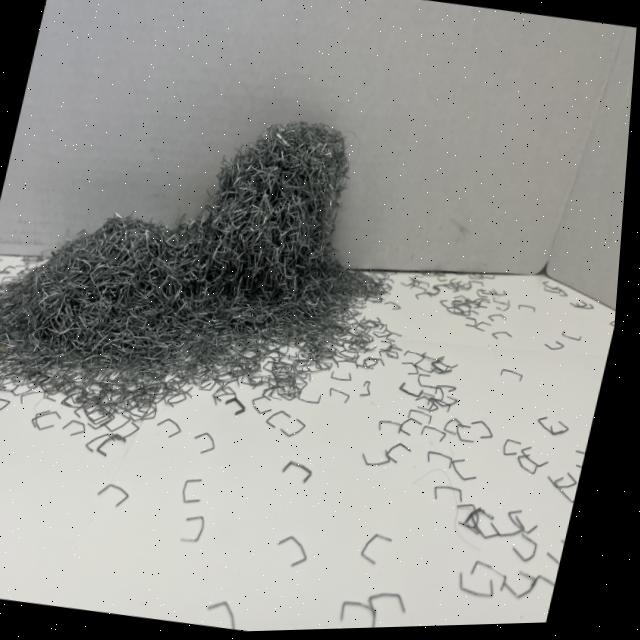staples: (0, 68, 430, 469)
